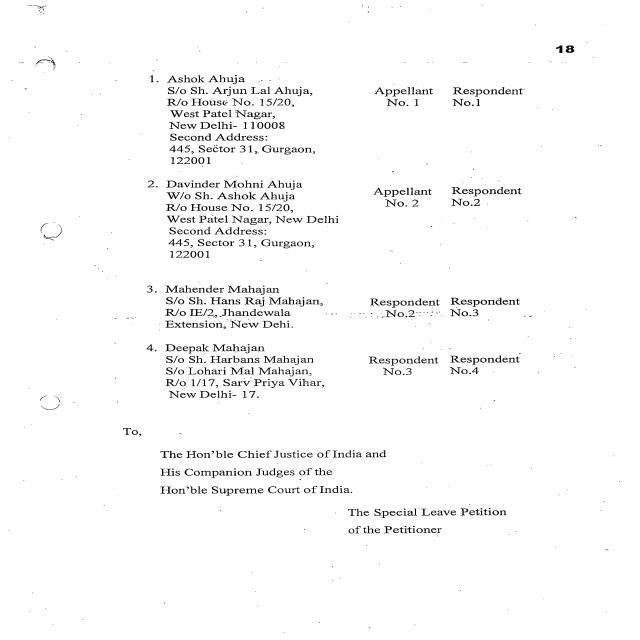page-number: (472, 0, 640, 56)
